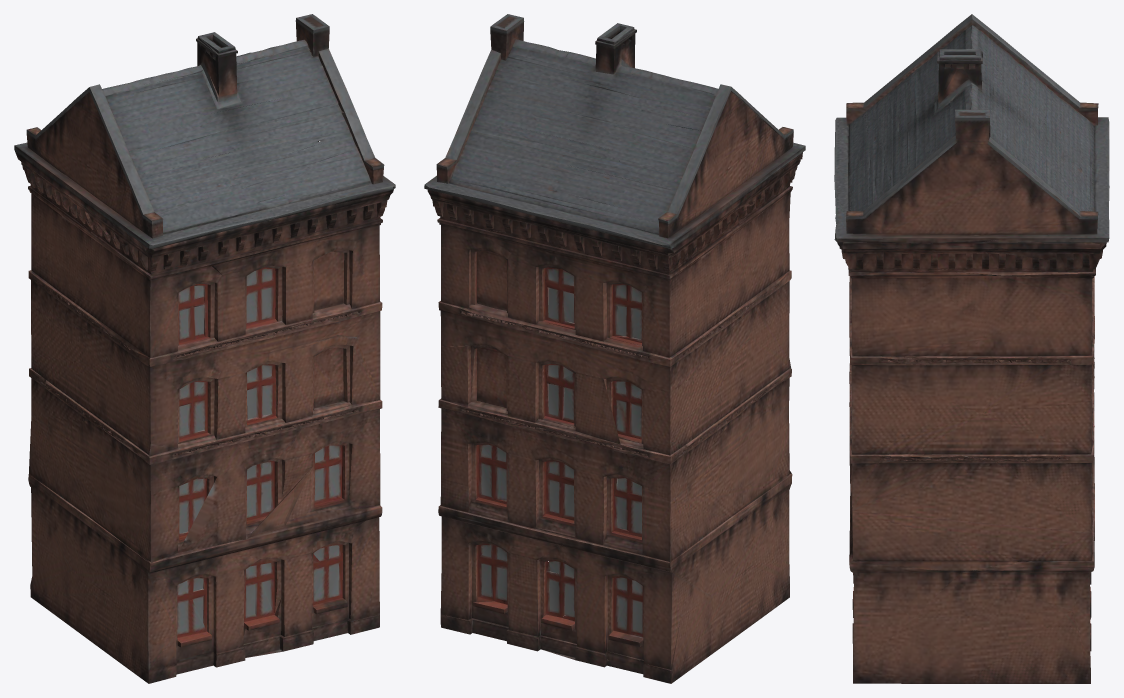
File: colony_house_c1_tall_b.glb
The picture shows the model from 3 angles, left to right: view 1: azimuth 30°, elevation 25°; view 2: azimuth 150°, elevation 25°; view 3: azimuth 270°, elevation 25°; orthographic projection.
Parts seen in each view (by area): view 1: main; view 2: main; view 3: main.
Boxes of the visible parts, x1=… form: main: x1=14, y1=14, x2=395, y2=683; main: x1=424, y1=14, x2=805, y2=683; main: x1=834, y1=14, x2=1109, y2=683.
Bounding box in the file's own units: 6.42 × 14.3 × 6.17.
Materials: 1 (1 with a texture image).
